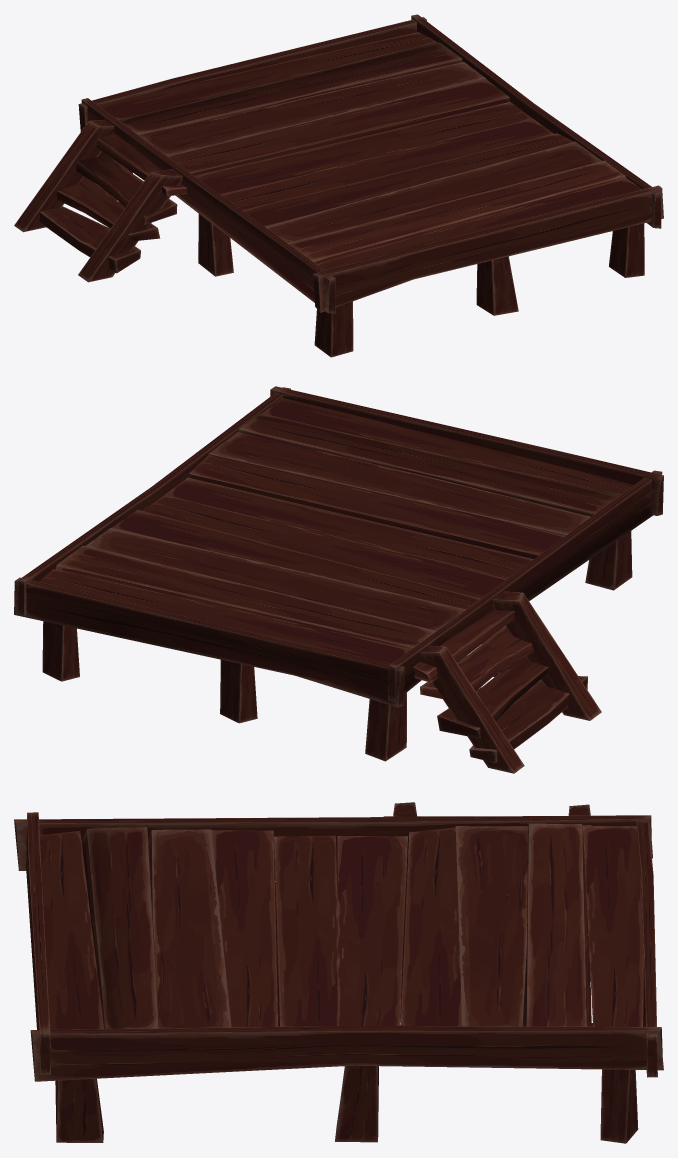
Rendered from SM_PROP_foundation_wood_05.fbx.
3 views of the same model, one above another, from view 1: azimuth 30°, elevation 25°; view 2: azimuth 150°, elevation 25°; view 3: azimuth 270°, elevation 25° (orthographic). The views are drawn at different scales.
Visible parts, largest first — view 1: SM_PROP_foundation_wood_05; view 2: SM_PROP_foundation_wood_05; view 3: SM_PROP_foundation_wood_05.
Part boxes in pixels (box(x1,y1,x2,y2)): SM_PROP_foundation_wood_05: box(14, 14, 663, 357); SM_PROP_foundation_wood_05: box(14, 386, 663, 773); SM_PROP_foundation_wood_05: box(14, 802, 663, 1143).
Bounding box in the file's own units: 522 × 105 × 518.
